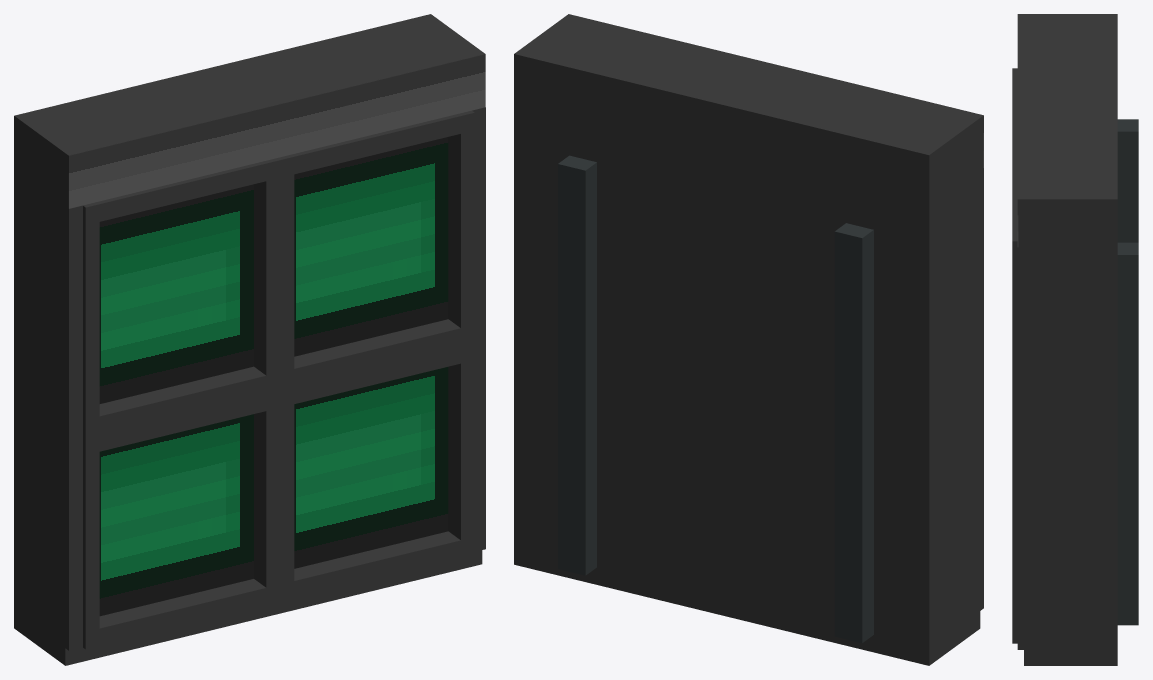
The model's file is CMU3DMultiMonitorBigCloudSouth.glb.
The picture shows the model from 3 angles, left to right: view 1: azimuth 30°, elevation 25°; view 2: azimuth 150°, elevation 25°; view 3: azimuth 270°, elevation 25°; orthographic projection. The views are drawn at different scales.
Visible parts, largest first — view 1: display 1 recessed inset original face, display 2 recessed inset original face, display 4 recessed inset original face, display 3 recessed inset original face, full depth left chassis, upper horizontal casing original face, left outer steel stile, cabinet roof, upper horizontal casing, display 3 lower frame, display 4 lower frame, display 2 lower frame (+19 smaller); view 2: rear cabinet wall, left outer steel stile, upper horizontal casing, full depth left chassis, rear left mounting batten, cabinet roof, rear right mounting batten, central vertical display divider, full depth right chassis, central horizontal display divider, right outer steel stile; view 3: full depth right chassis, right outer steel stile, cabinet roof, rear right mounting batten, upper horizontal casing, rear cabinet wall, rear left mounting batten, display 2 right frame, display 4 right frame, full depth left chassis, display 2 upper frame, display 1 upper frame (+1 smaller).
Boxes of the visible parts, x1,y1,x2,y2 form: display 1 recessed inset original face: [99, 184, 253, 403]; display 2 recessed inset original face: [294, 137, 448, 356]; display 4 recessed inset original face: [294, 367, 448, 568]; display 3 recessed inset original face: [99, 414, 253, 616]; full depth left chassis: [14, 112, 79, 665]; upper horizontal casing original face: [68, 54, 485, 208]; left outer steel stile: [14, 169, 82, 650]; cabinet roof: [37, 24, 467, 149]; upper horizontal casing: [14, 14, 484, 208]; display 3 lower frame: [83, 579, 280, 649]; display 4 lower frame: [280, 531, 474, 601]; display 2 lower frame: [280, 319, 474, 389]; rear cabinet wall: [528, 51, 923, 662]; left outer steel stile: [915, 168, 983, 648]; upper horizontal casing: [514, 14, 983, 207]; full depth left chassis: [915, 114, 980, 665]; rear left mounting batten: [834, 223, 873, 643]; cabinet roof: [537, 20, 965, 145]; rear right mounting batten: [558, 155, 596, 575]; central vertical display divider: [707, 154, 735, 600]; full depth right chassis: [514, 16, 577, 567]; central horizontal display divider: [528, 321, 914, 450]; right outer steel stile: [514, 107, 527, 549]; full depth right chassis: [1024, 193, 1117, 665]; right outer steel stile: [1017, 247, 1117, 649]; cabinet roof: [1024, 20, 1101, 192]; rear right mounting batten: [1117, 242, 1138, 625]; upper horizontal casing: [1018, 14, 1117, 247]; rear cabinet wall: [1101, 20, 1117, 192]; rear left mounting batten: [1117, 119, 1138, 242]; display 2 right frame: [1012, 257, 1017, 434]; display 4 right frame: [1012, 466, 1017, 627]; full depth left chassis: [1024, 14, 1117, 20]; display 2 upper frame: [1012, 155, 1017, 257]; display 1 upper frame: [1012, 68, 1017, 154].
Bounding box in the file's own units: 0.9375 × 1.1 × 0.27.
Materials: 6 (3 with a texture image).
